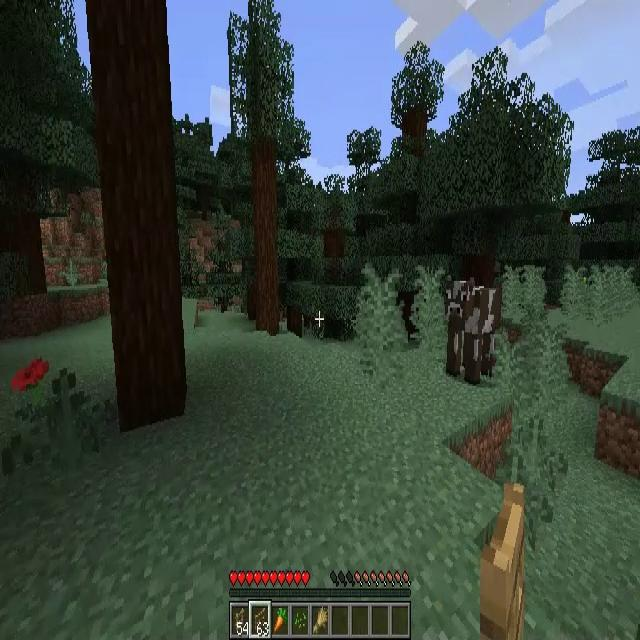cow: (447, 278, 499, 387)
